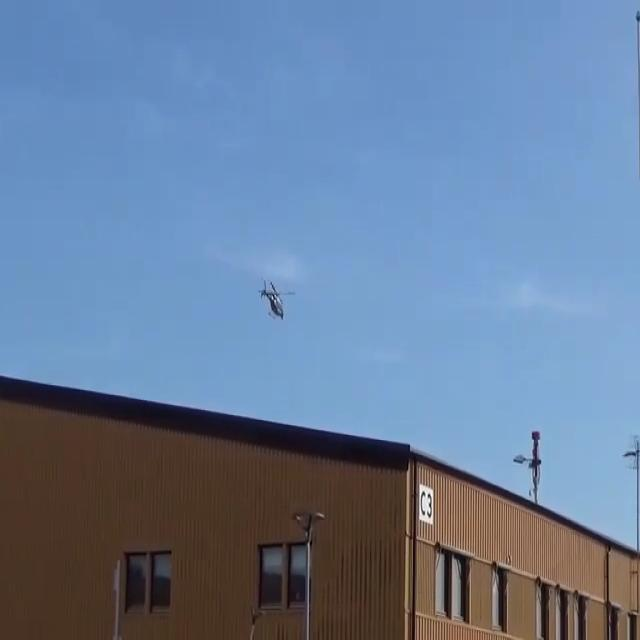Helicopter: (240, 260, 295, 339)
